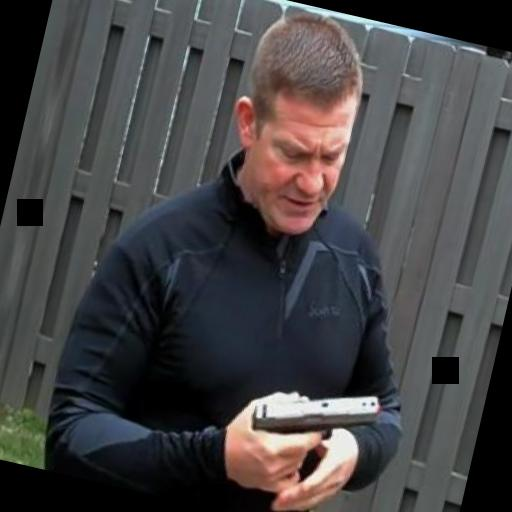Handgun: (225, 363, 383, 508)
